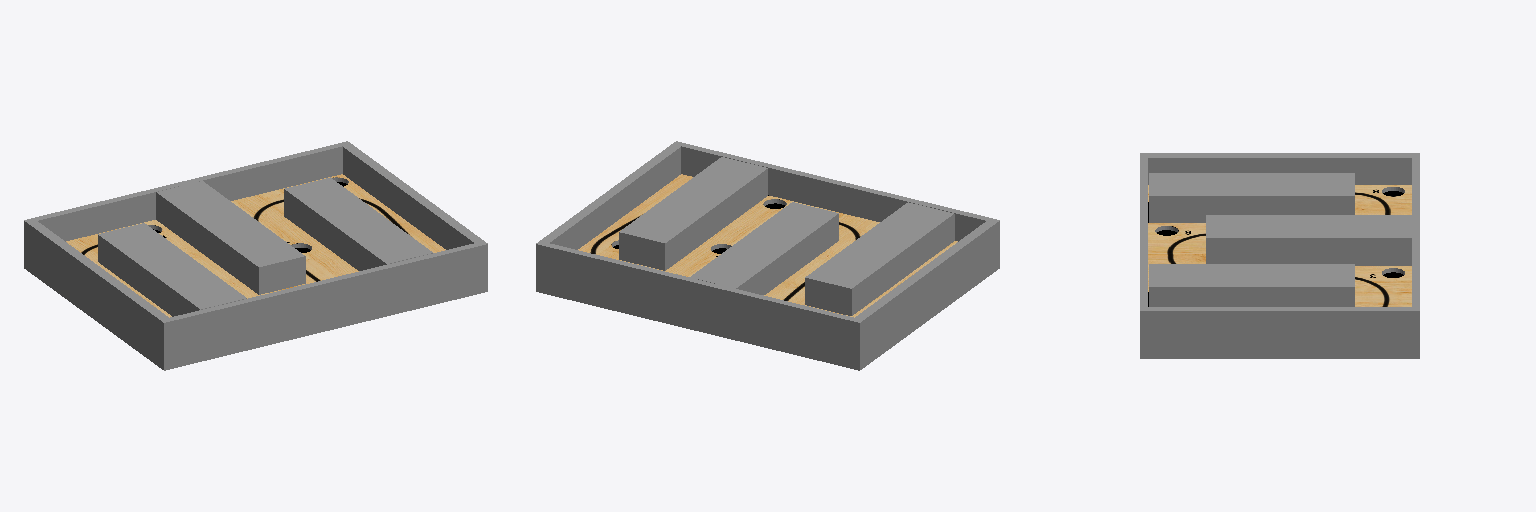
The picture shows the model from 3 angles: view 1: azimuth 30°, elevation 25°; view 2: azimuth 150°, elevation 25°; view 3: azimuth 270°, elevation 25°; orthographic projection.
Visible parts, largest first — view 1: Cube.003_Cube.016; view 2: Cube.003_Cube.016; view 3: Cube.003_Cube.016.
Boxes of the visible parts, x1=… form: Cube.003_Cube.016: x1=24, y1=141, x2=487, y2=370; Cube.003_Cube.016: x1=536, y1=141, x2=999, y2=370; Cube.003_Cube.016: x1=1140, y1=153, x2=1419, y2=358.
Size of the model in its own units: 8 by 1.13 by 6.
6 materials, 2 textured.